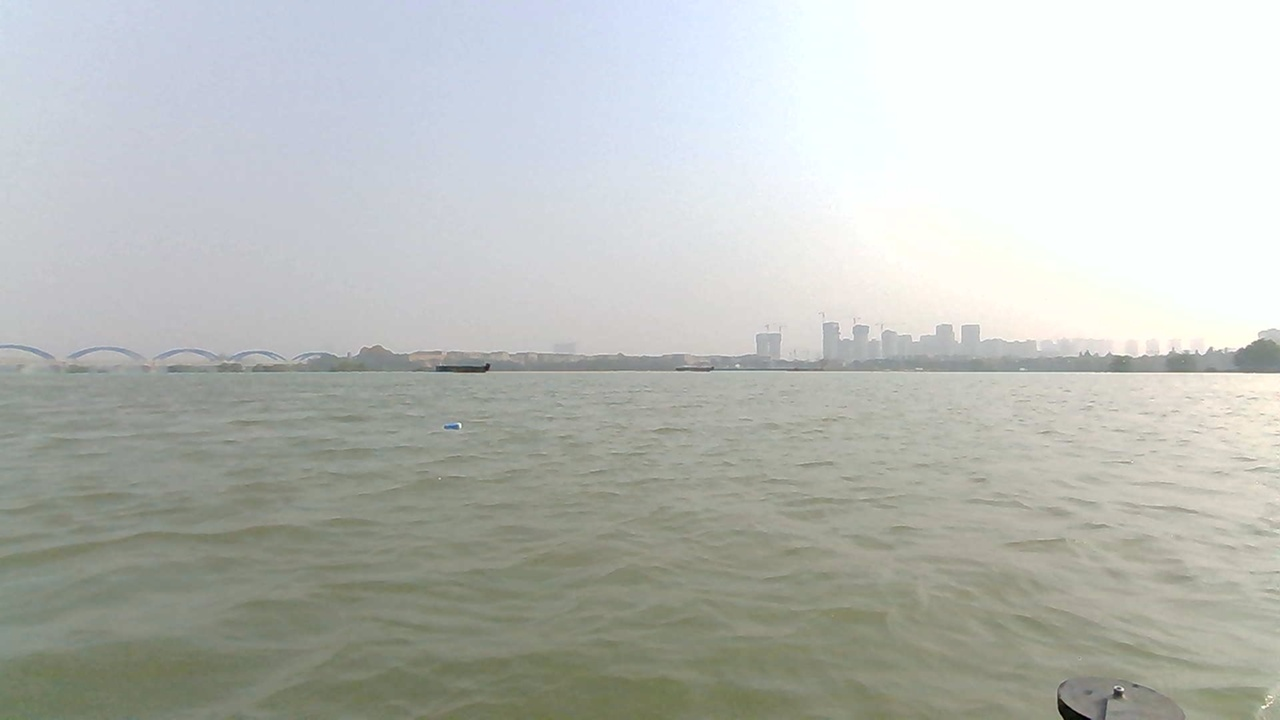bottle: (438, 420, 467, 434)
